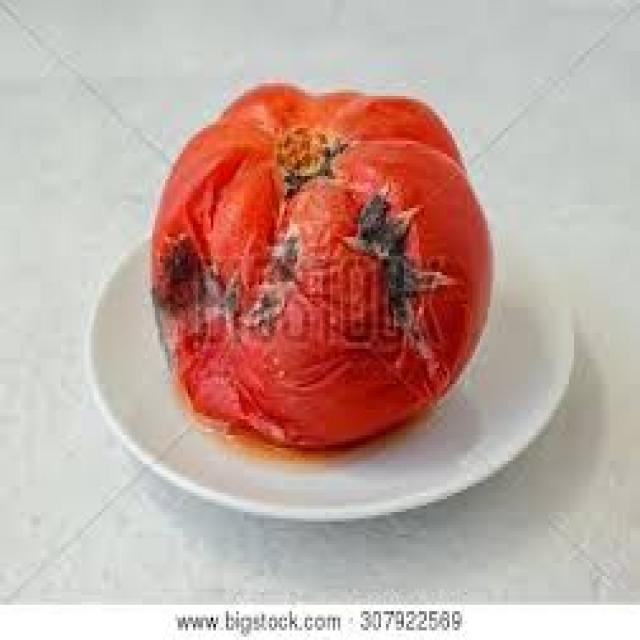organic waste: (147, 80, 493, 451)
